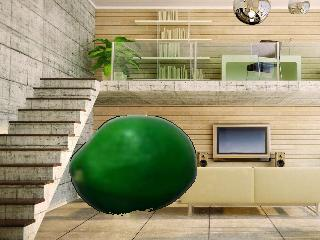lime: (64, 110, 200, 218)
